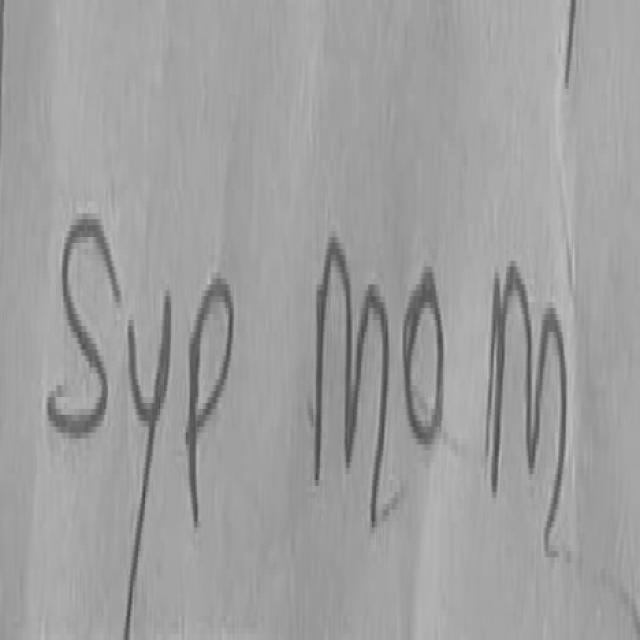M: (316, 237, 390, 524), (494, 261, 568, 548)
O: (405, 267, 444, 441)
S: (46, 219, 120, 433)
p: (190, 279, 234, 530)
y: (124, 290, 169, 637)
